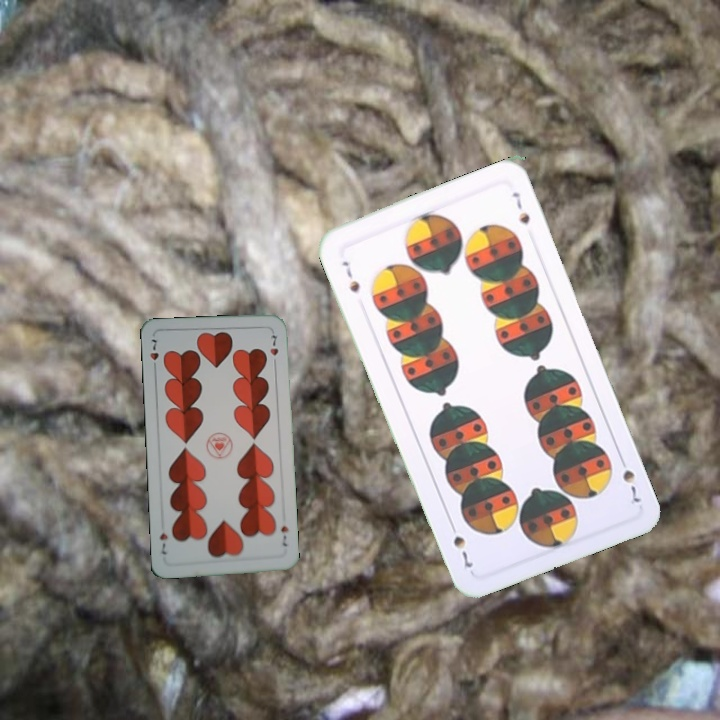H7: (146, 333, 161, 374), (277, 522, 291, 549)
S7: (615, 451, 643, 506), (337, 257, 363, 295)
